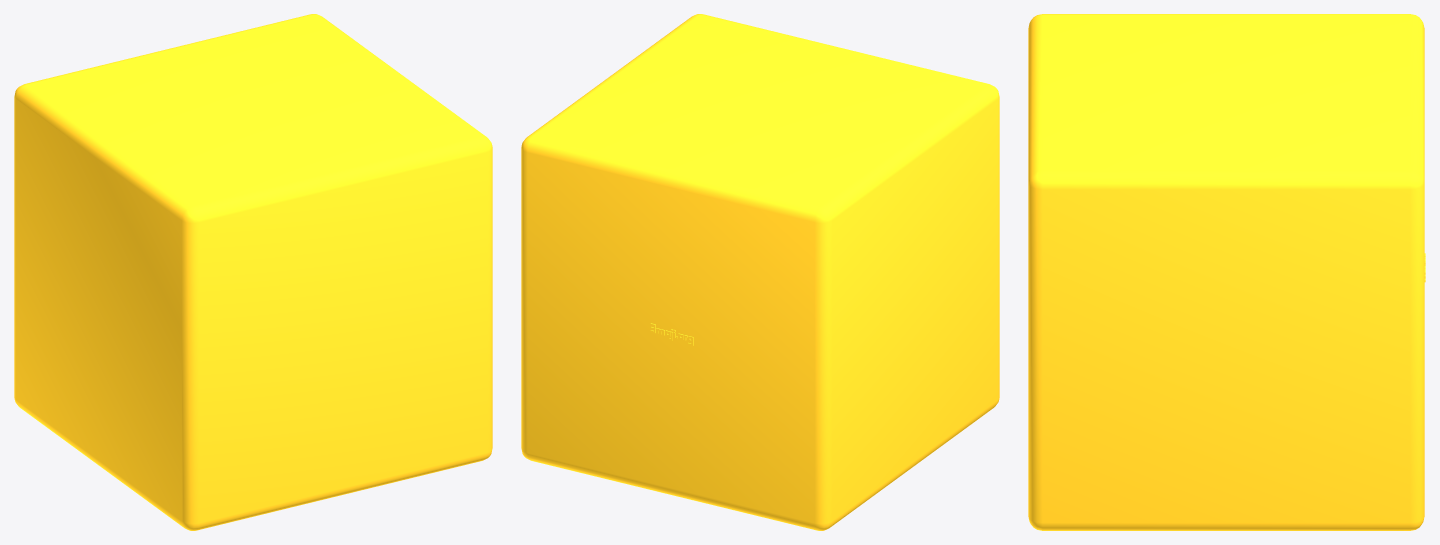
The model's file is yellow_square.gltf.
3 views of the same model, side by side, from view 1: azimuth 30°, elevation 25°; view 2: azimuth 150°, elevation 25°; view 3: azimuth 270°, elevation 25° (orthographic). The views are drawn at different scales.
Parts seen in each view (by area): view 1: yellow_square; view 2: yellow_square; view 3: yellow_square.
Part boxes in pixels (<box>): yellow_square: <box>14,14,492,530</box>; yellow_square: <box>521,14,999,530</box>; yellow_square: <box>1028,14,1425,530</box>.
Bounding box in the file's own units: 1.92 × 1.92 × 1.92.
1 material, 1 textured.
